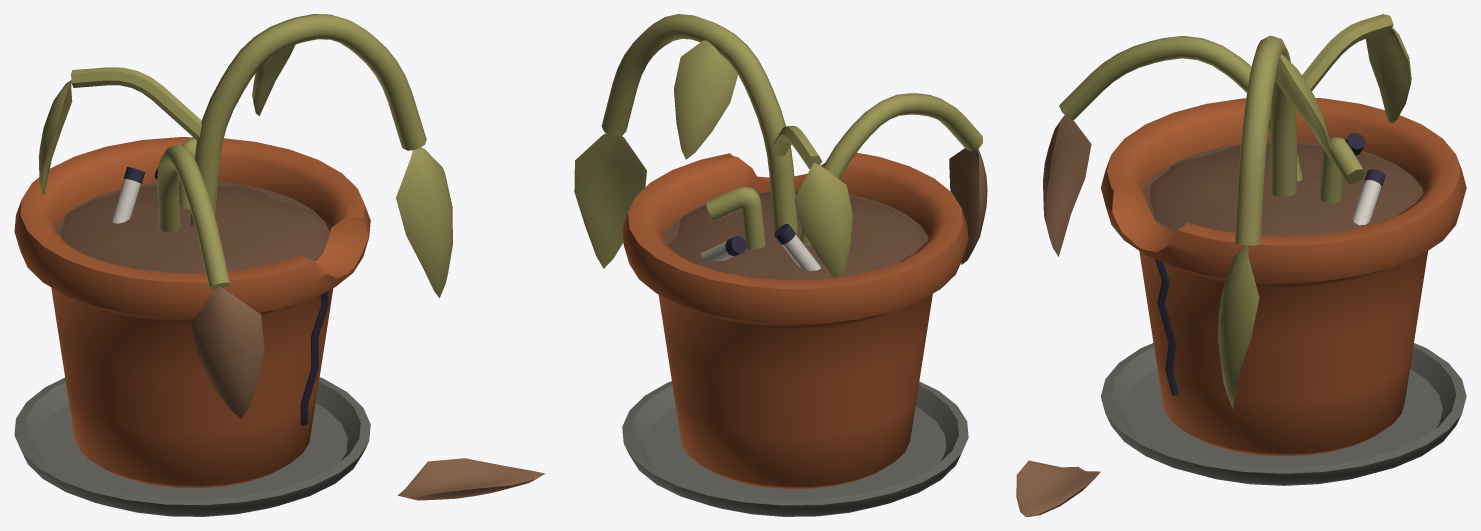
Rendered from sad_plant.glb.
3 renders of one model, left to right at view 1: azimuth 30°, elevation 25°; view 2: azimuth 150°, elevation 25°; view 3: azimuth 270°, elevation 25°, orthographic. The views are drawn at different scales.
Parts seen in each view (by area): view 1: sad_plant; view 2: sad_plant; view 3: sad_plant.
Boxes of the visible parts, x1=… form: sad_plant: x1=14, y1=14, x2=544, y2=516; sad_plant: x1=574, y1=14, x2=987, y2=516; sad_plant: x1=1016, y1=14, x2=1466, y2=516.
Size of the model in its own units: 0.4577 by 0.4587 by 0.4382.
